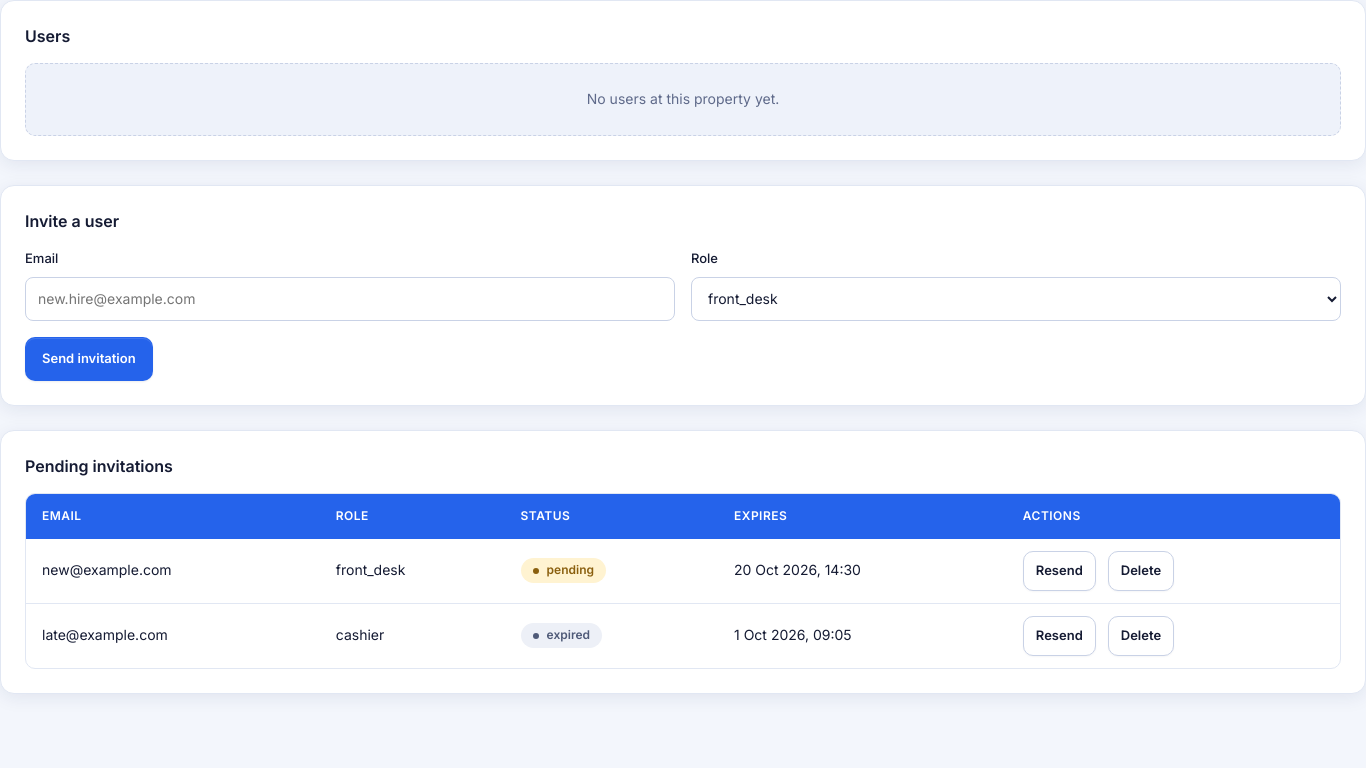
Scenario: <UsersTab> › pending invitations › shows a server refusal such as the role-escalation block or the rate limit
This screenshot has width=1366, height=768.
Click the button "Resend" in the row of "new@example.com": point(1059, 570) 1023,550 -> 1096,590
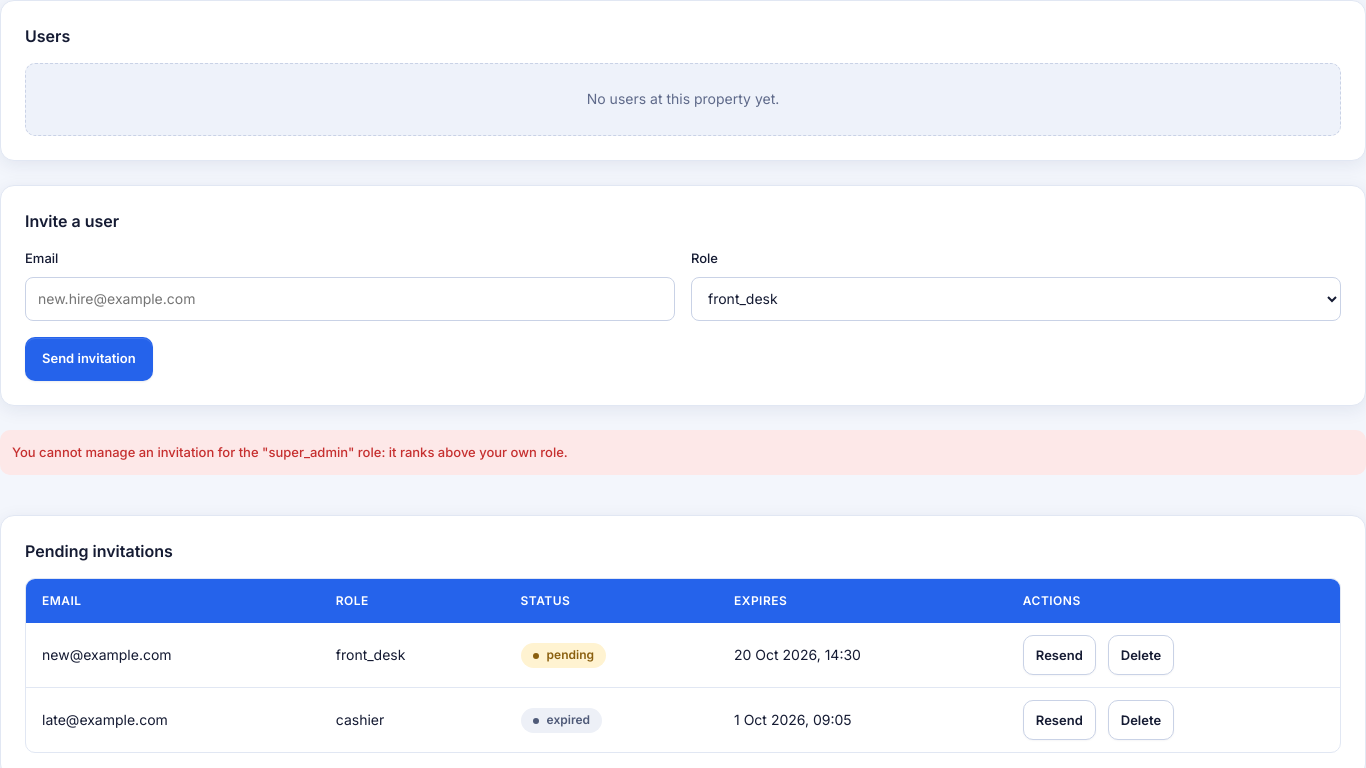
Result: the message shows "ranks above your own role" at 12,444 -> 568,460
